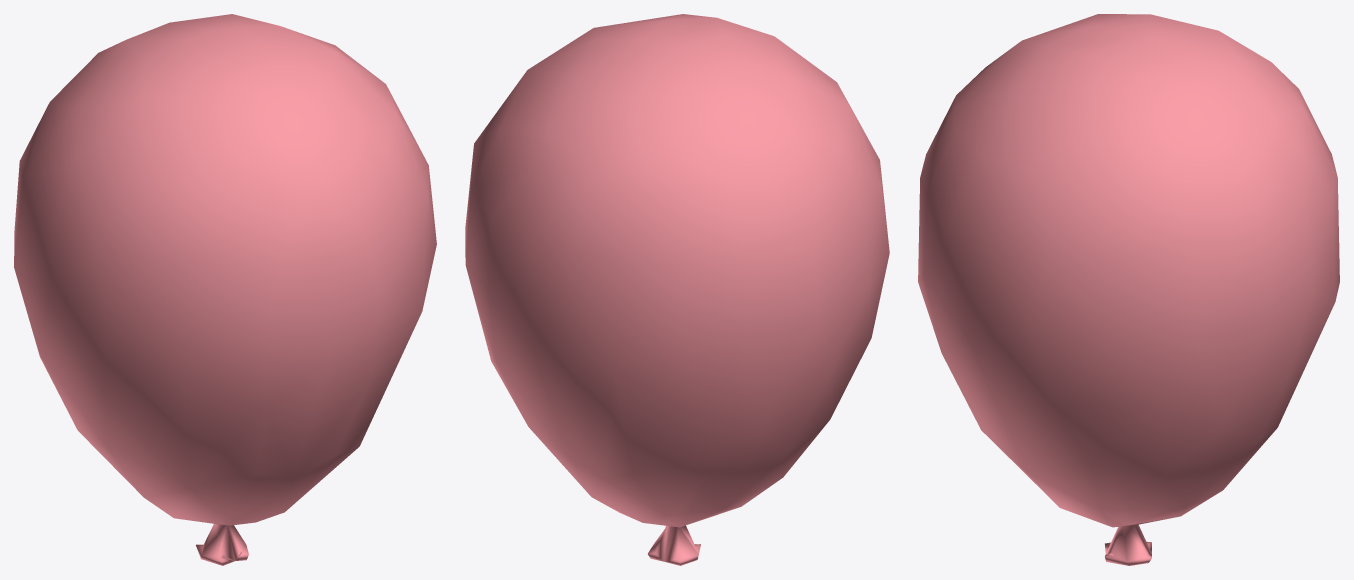
Rendered from SM_Balloon_Single.fbx.
3 renders of one model, left to right at view 1: azimuth 30°, elevation 25°; view 2: azimuth 150°, elevation 25°; view 3: azimuth 270°, elevation 25°, orthographic.
Visible parts, largest first — view 1: Balloon; view 2: Balloon; view 3: Balloon.
Boxes of the visible parts, x1,y1,x2,y2 form: Balloon: (14, 14, 436, 565); Balloon: (465, 14, 889, 565); Balloon: (918, 14, 1339, 565).
Size of the model in its own units: 0.8873 by 1.19 by 0.8757.
